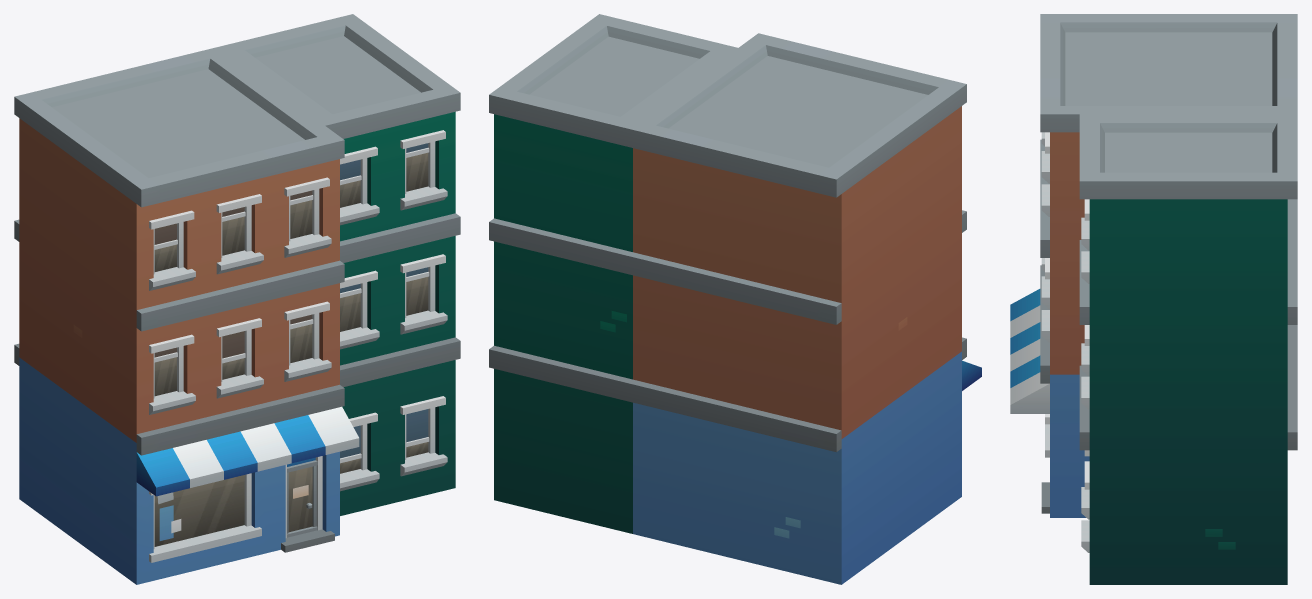
File: shop_g.glb
The picture shows the model from 3 angles, left to right: view 1: azimuth 30°, elevation 25°; view 2: azimuth 150°, elevation 25°; view 3: azimuth 270°, elevation 25°; orthographic projection. The views are drawn at different scales.
Parts seen in each view (by area): view 1: building_G_withoutBase; view 2: building_G_withoutBase; view 3: building_G_withoutBase.
Boxes of the visible parts, box(x1,y1,x2,y2) form: building_G_withoutBase: box(14, 14, 460, 584); building_G_withoutBase: box(489, 14, 981, 584); building_G_withoutBase: box(1010, 14, 1297, 584).
Bounding box in the file's own units: 2.01 × 2.25 × 1.45.
1 material, 1 textured.
